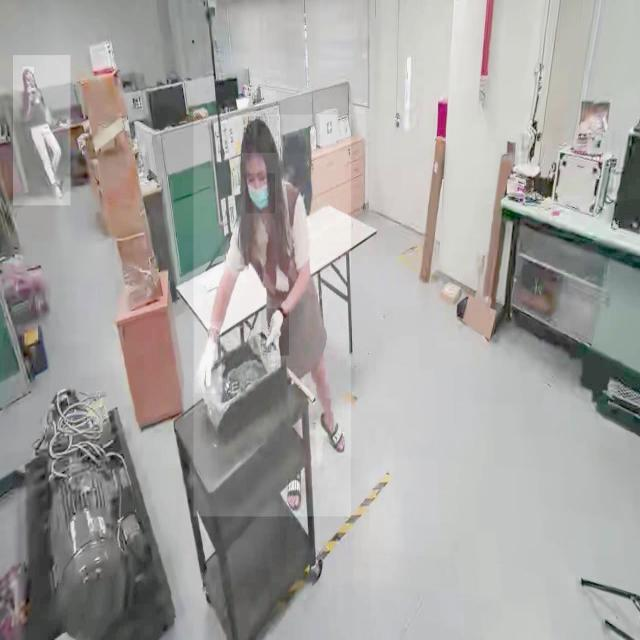face_mask: (245, 174, 275, 214)
hand_glove: (194, 322, 222, 394), (261, 308, 289, 356)
head_nohelmet: (241, 116, 277, 154), (22, 66, 34, 74)
person: (193, 115, 351, 517), (13, 55, 70, 206)
